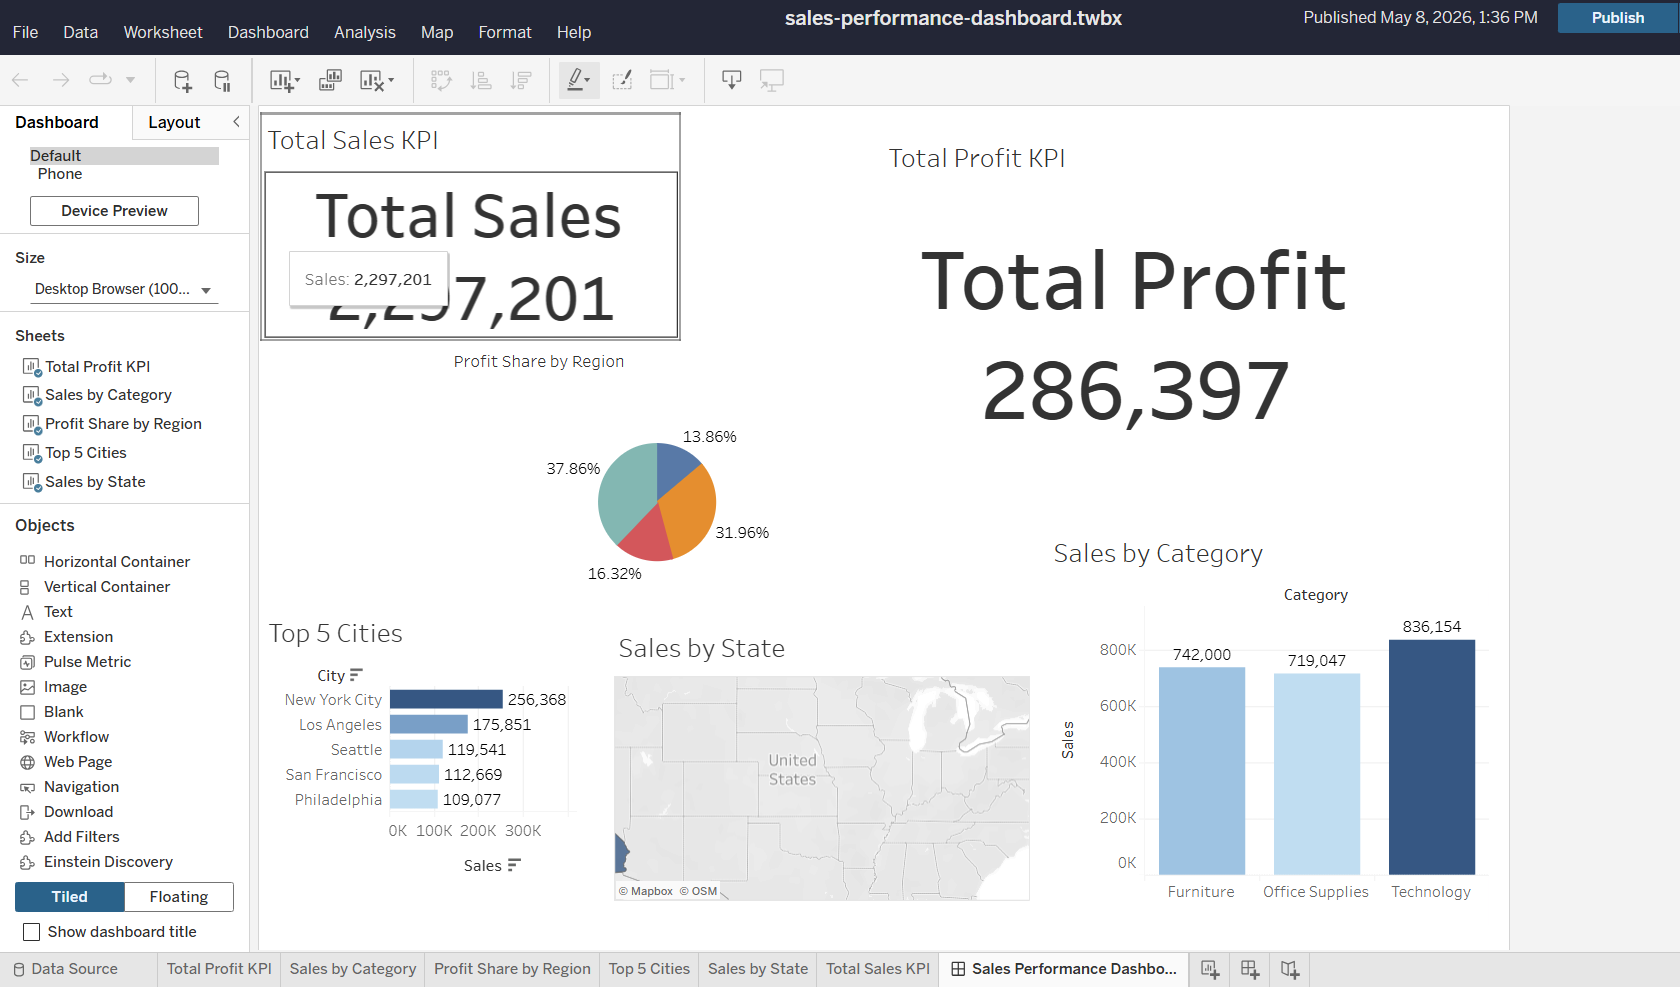

Layout of this report page (visuals, bound fields, positions):
{"tool":"tableau","page":{"name":"Sales Performance Dashboard","canvas":[1000,800],"ordinal":0},"visuals":[{"type":"worksheet","title":"Total Sales KPI","mark":"Automatic","box":[3,7,333,179]},{"type":"worksheet","title":"Total Profit KPI","mark":"Automatic","box":[500,21,404,276]},{"type":"worksheet","title":"Profit Share by Region","mark":"Pie","box":[152,188,333,223]},{"type":"worksheet","title":"Sales by Category","mark":"Automatic","rows":["Sales"],"cols":["Category"],"box":[632,337,352,318]},{"type":"worksheet","title":"Top 5 Cities","mark":"Automatic","rows":["City"],"cols":["Sales"],"box":[4,401,251,278]},{"type":"worksheet","title":"Sales by State","mark":"Automatic","box":[284,413,333,223]}]}

Visuals, with their boxes on the page's 1000x800 design canvas (x1, y1, x2, y2). These are canvas units, not pixel positions in the 1680x987 screenshot, which may show the page scaled, cropped or inside an application window:
"Total Sales KPI" worksheet: bbox=[3, 7, 336, 186]
"Total Profit KPI" worksheet: bbox=[500, 21, 904, 297]
"Profit Share by Region" worksheet (Pie marks): bbox=[152, 188, 485, 411]
"Sales by Category" worksheet: bbox=[632, 337, 984, 655]
"Top 5 Cities" worksheet: bbox=[4, 401, 255, 679]
"Sales by State" worksheet: bbox=[284, 413, 617, 636]
